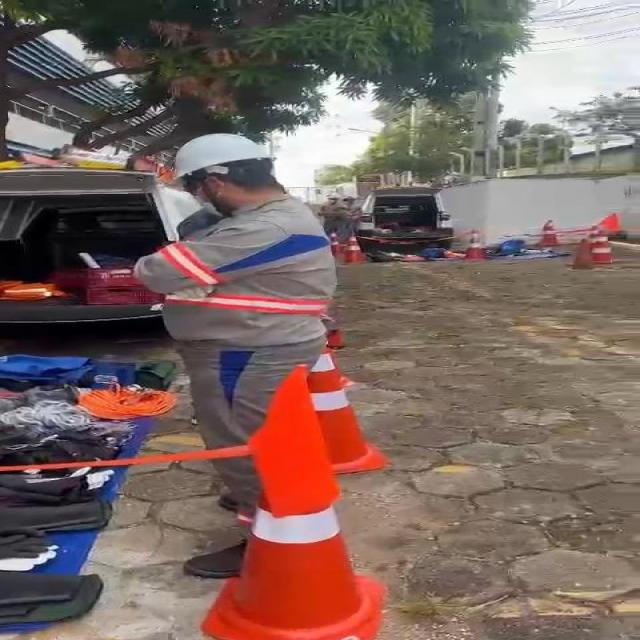Cone: (244, 362, 399, 640), (586, 219, 618, 264), (466, 223, 488, 262), (537, 213, 559, 250), (345, 234, 369, 260)
Helmet: (167, 127, 294, 215)
